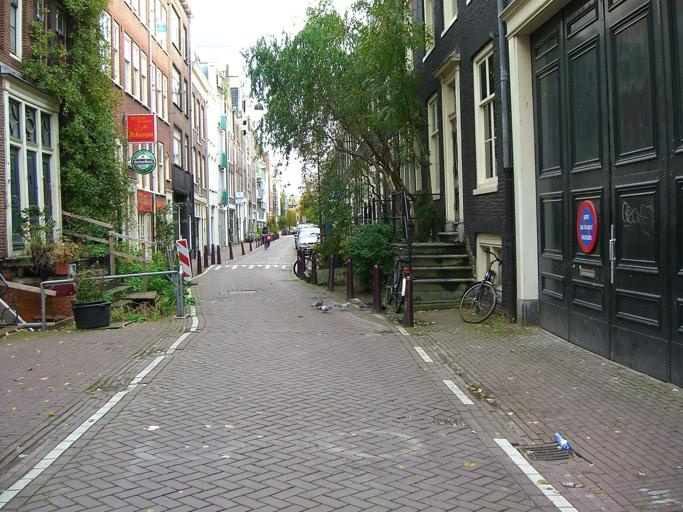non-vehicle: (458, 249, 504, 324), (383, 245, 413, 313), (290, 231, 322, 282), (260, 232, 269, 250)
